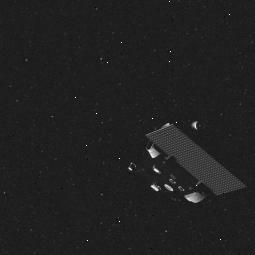proba_3_csc: (125, 115, 254, 209)
